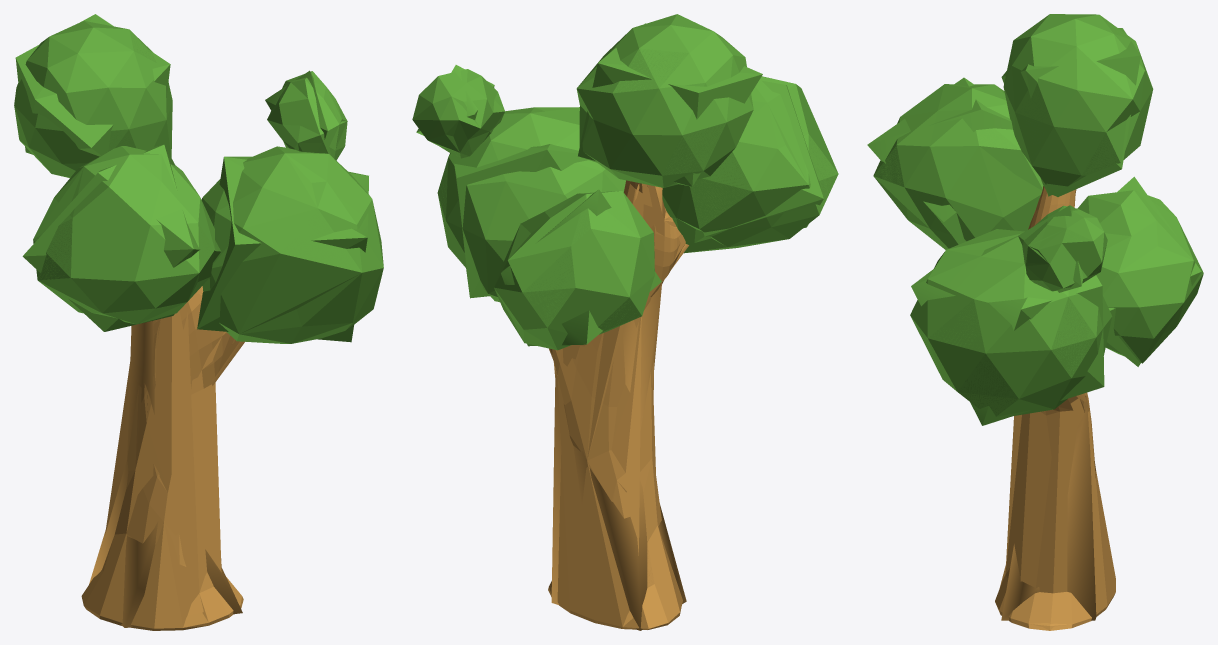
The model's file is Tree_2_hello.fbx.
The picture shows the model from 3 angles, left to right: view 1: azimuth 30°, elevation 25°; view 2: azimuth 150°, elevation 25°; view 3: azimuth 270°, elevation 25°; orthographic projection. The views are drawn at different scales.
Parts seen in each view (by area): view 1: Tree_2, Tree_2.001, Tree_2.002; view 2: Tree_2, Tree_2.001, Tree_2.002; view 3: Tree_2, Tree_2.001, Tree_2.002.
Boxes of the visible parts, bbox=[...] form: Tree_2: bbox=[14, 21, 383, 630]; Tree_2.001: bbox=[33, 33, 382, 628]; Tree_2.002: bbox=[15, 14, 368, 627]; Tree_2: bbox=[412, 14, 838, 629]; Tree_2.001: bbox=[439, 48, 838, 628]; Tree_2.002: bbox=[416, 23, 823, 630]; Tree_2: bbox=[873, 14, 1203, 630]; Tree_2.001: bbox=[874, 22, 1193, 630]; Tree_2.002: bbox=[867, 28, 1201, 620].
Bounding box in the file's own units: 704 × 1104 × 608.
